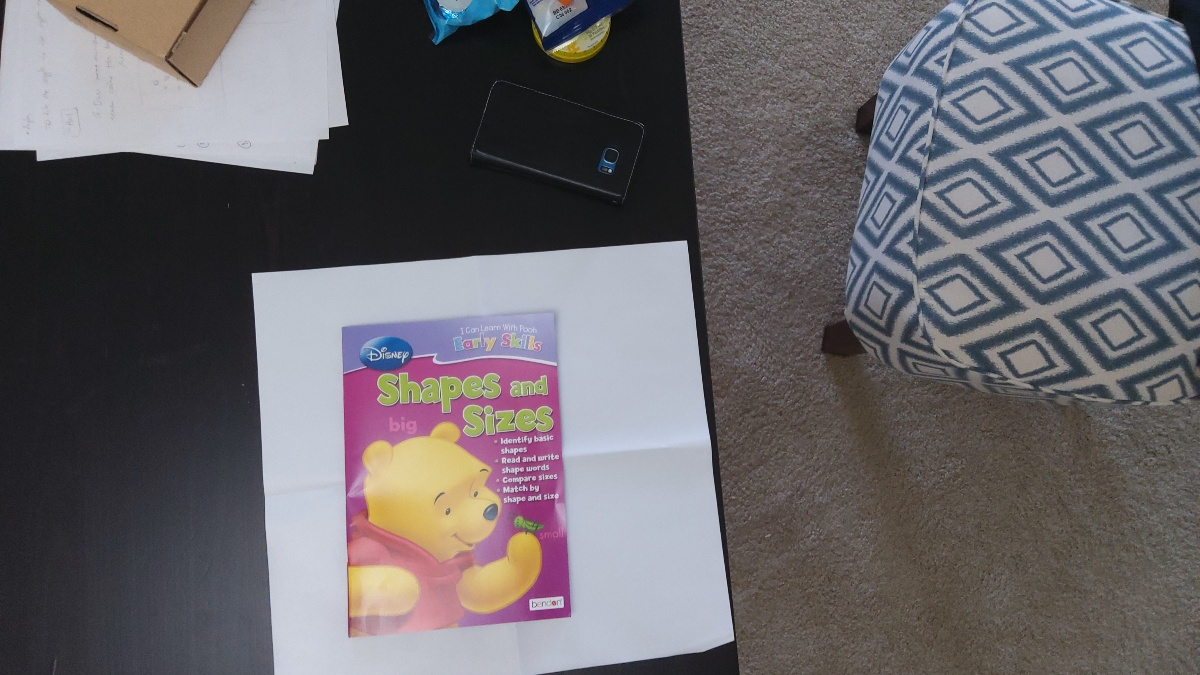book: (341, 325, 561, 620)
